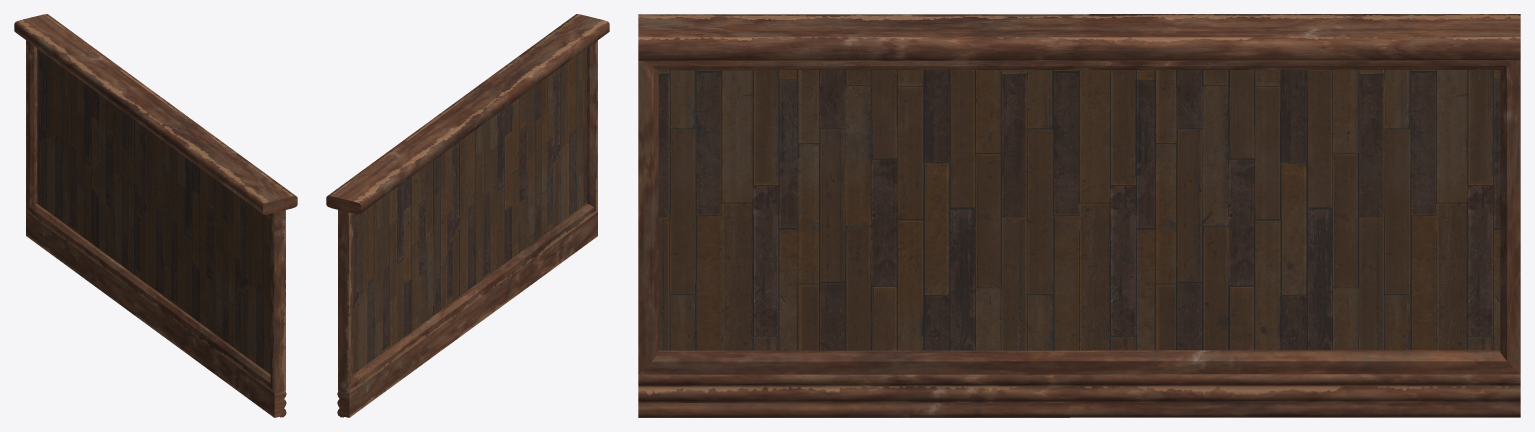
The model's file is Kit_LadderFlatRailing.fbx.
3 renders of one model, left to right at view 1: azimuth 30°, elevation 25°; view 2: azimuth 150°, elevation 25°; view 3: azimuth 270°, elevation 25°, orthographic. The views are drawn at different scales.
Parts seen in each view (by area): view 1: Kit_LadderFlatRailing; view 2: Kit_LadderFlatRailing; view 3: Kit_LadderFlatRailing.
Boxes of the visible parts, box(x1,y1,x2,y2) form: Kit_LadderFlatRailing: box(14, 14, 297, 417); Kit_LadderFlatRailing: box(326, 14, 609, 417); Kit_LadderFlatRailing: box(638, 14, 1520, 417).
Size of the model in its own units: 7.87 by 47.38 by 97.52.
